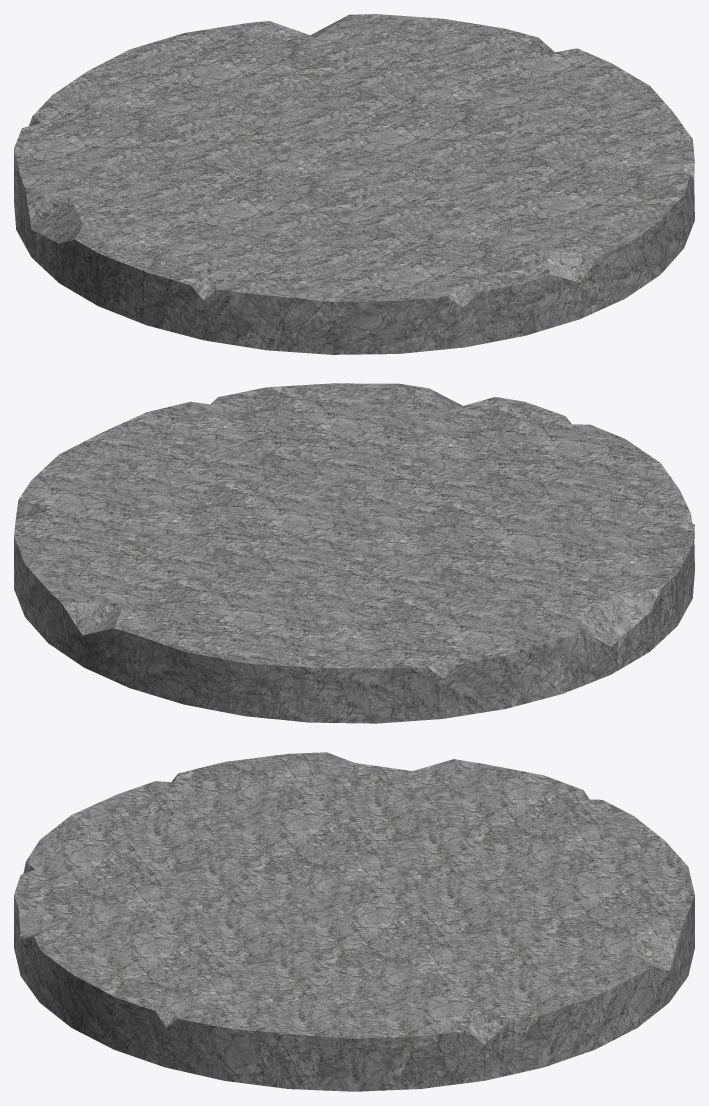
File: materials_3_base_4.fbx
The picture shows the model from 3 angles, top to bottom: view 1: azimuth 30°, elevation 25°; view 2: azimuth 150°, elevation 25°; view 3: azimuth 270°, elevation 25°; orthographic projection.
Visible parts, largest first — view 1: materials_3_base_4; view 2: materials_3_base_4; view 3: materials_3_base_4.
Boxes of the visible parts, <box> form: materials_3_base_4: <box>14,14,694,354</box>; materials_3_base_4: <box>14,383,694,723</box>; materials_3_base_4: <box>14,752,694,1091</box>.
Bounding box in the file's own units: 555 × 47.57 × 555.
